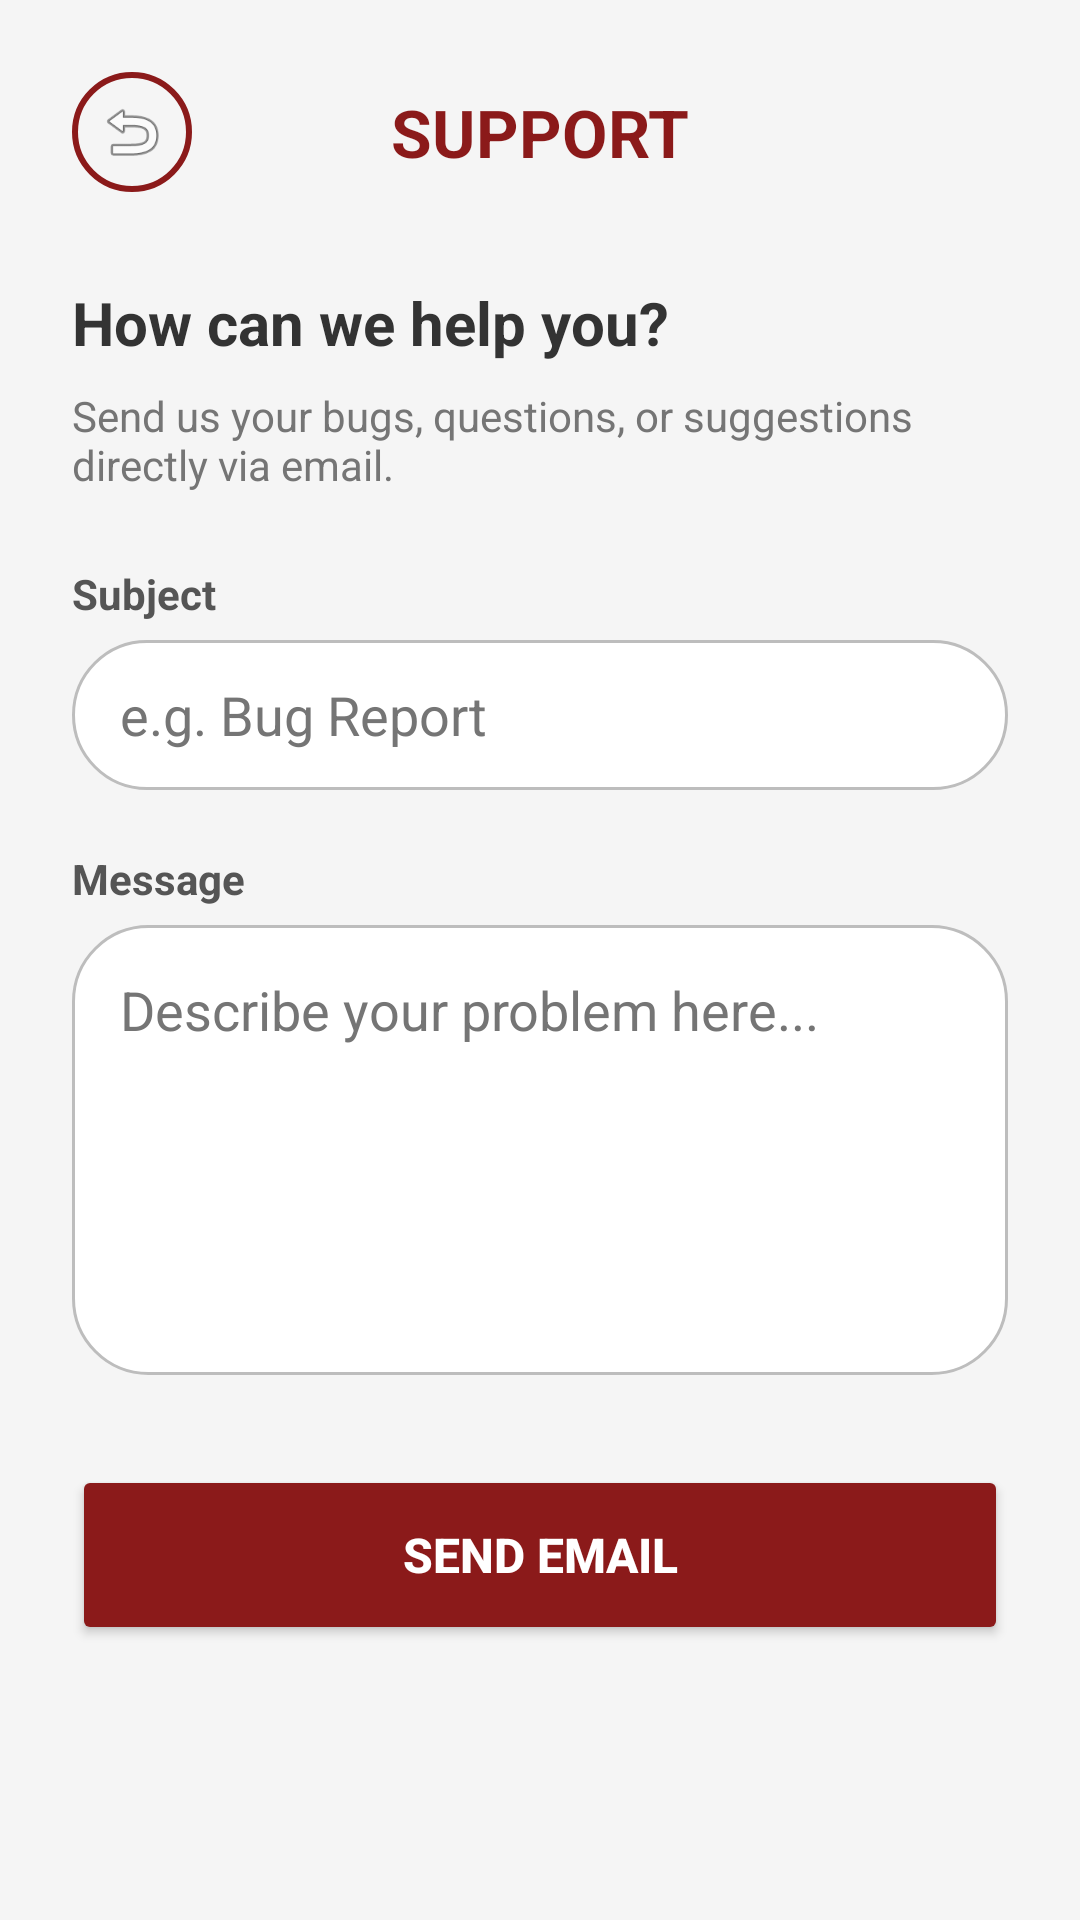

Where icons sit on this 1080px×1920px app screen, as box=[x1, y1, x2, y2]:
revert: box=[72, 72, 192, 192]
